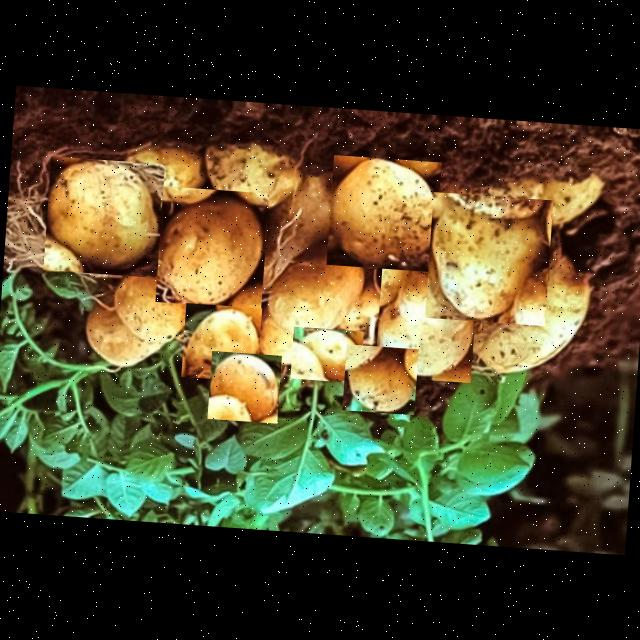Diseased-fungal potato: (424, 192, 552, 326), (42, 156, 164, 278), (155, 186, 269, 309), (374, 250, 479, 382), (326, 154, 441, 272), (264, 237, 368, 340), (108, 268, 193, 346), (180, 303, 262, 382), (206, 351, 282, 424), (342, 344, 418, 415), (290, 326, 363, 383)
